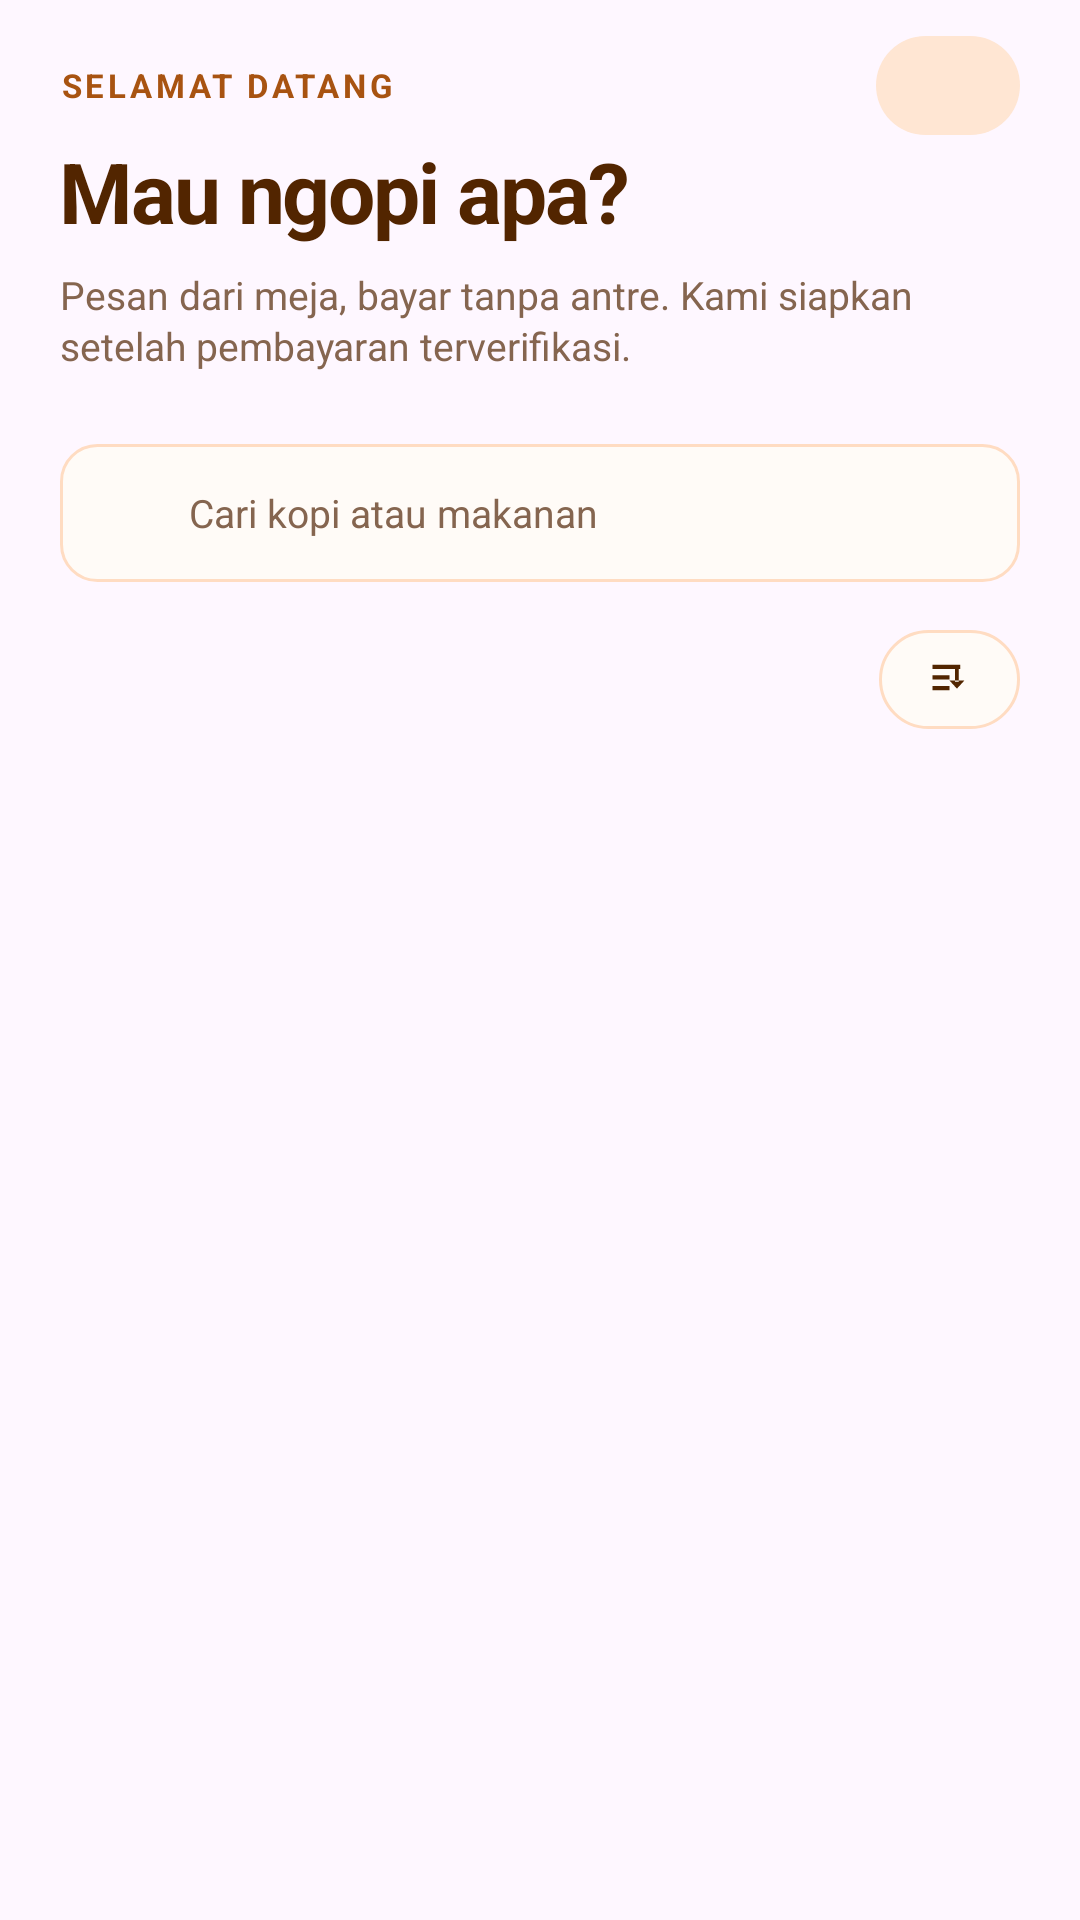

Screen size 1080x1920. Icon name, then its center in pixels as (x,y):
Urutkan menu: (949,679)
